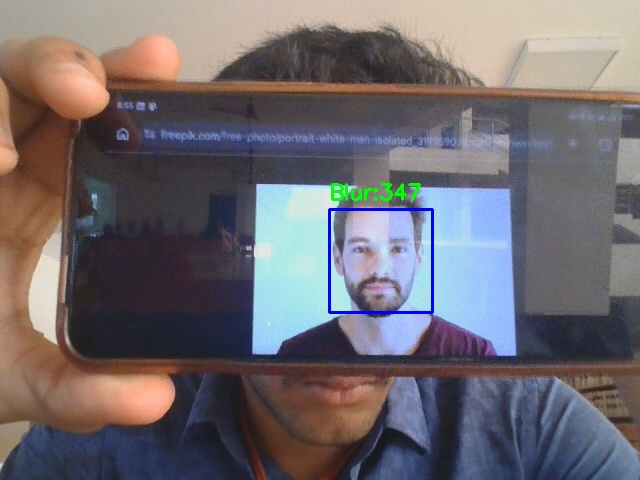fake: (329, 209, 432, 312)
